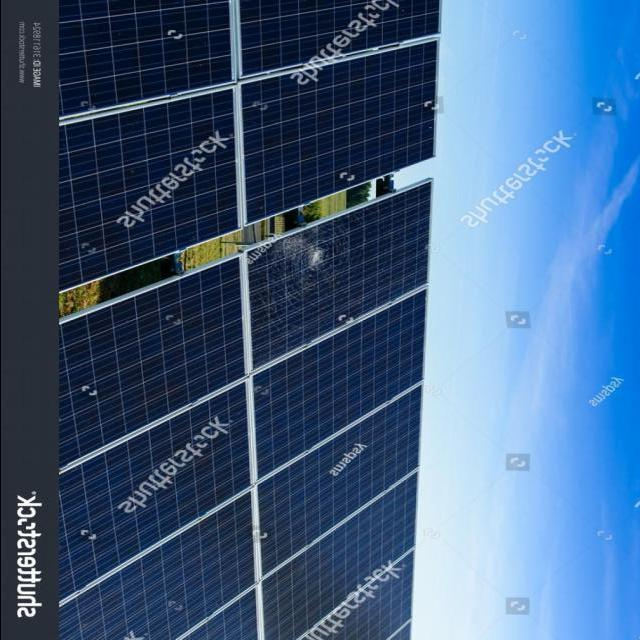cracked: (248, 182, 437, 370)
